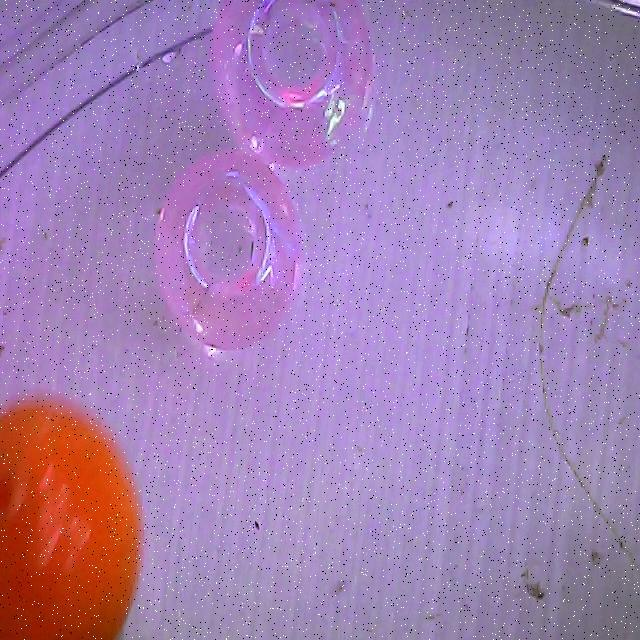beads: (129, 136, 328, 366), (0, 403, 142, 639), (210, 0, 374, 165)
